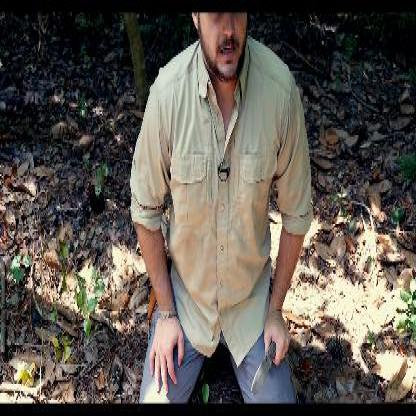knife: (247, 320, 291, 398)
